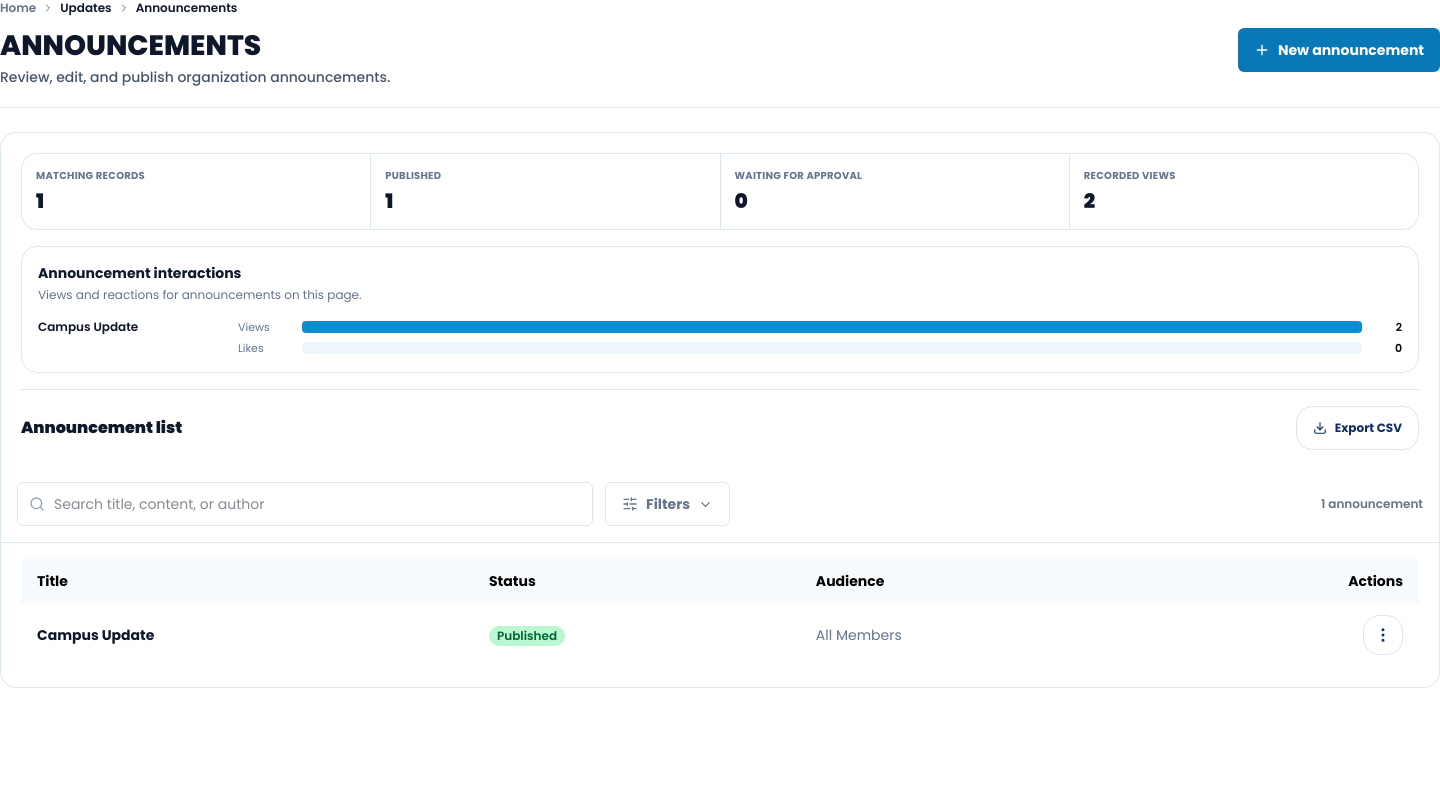
Scenario: ManageAnnouncementsPage › keeps a failed delete confirmation open and reports the error
This screenshot has width=1440, height=810.
Click the button named "Actions for Campus update".
click(1383, 635)  # box [1363,615,1403,655]
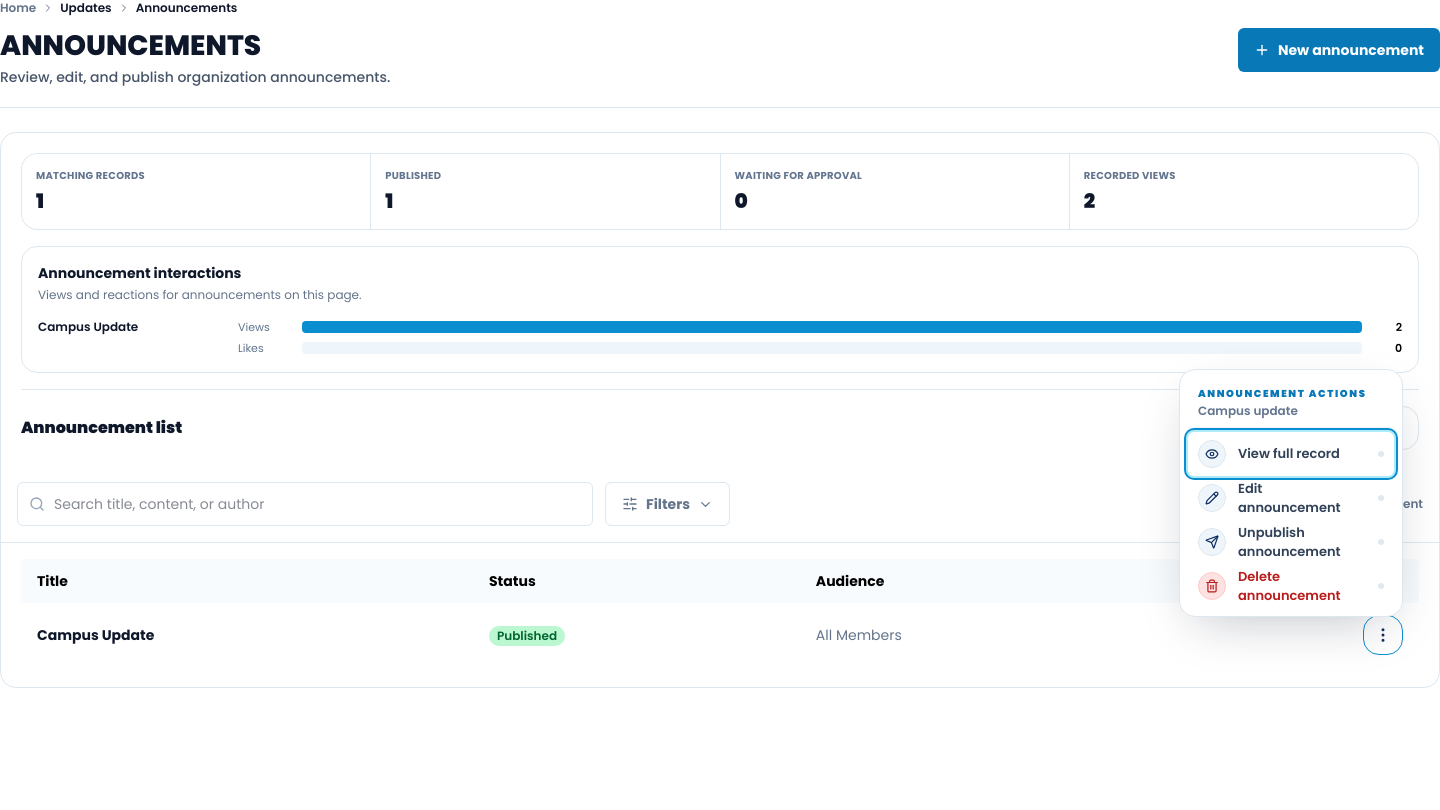
Click the menu item "Delete announcement".
click(1291, 586)  # box [1188,564,1394,608]
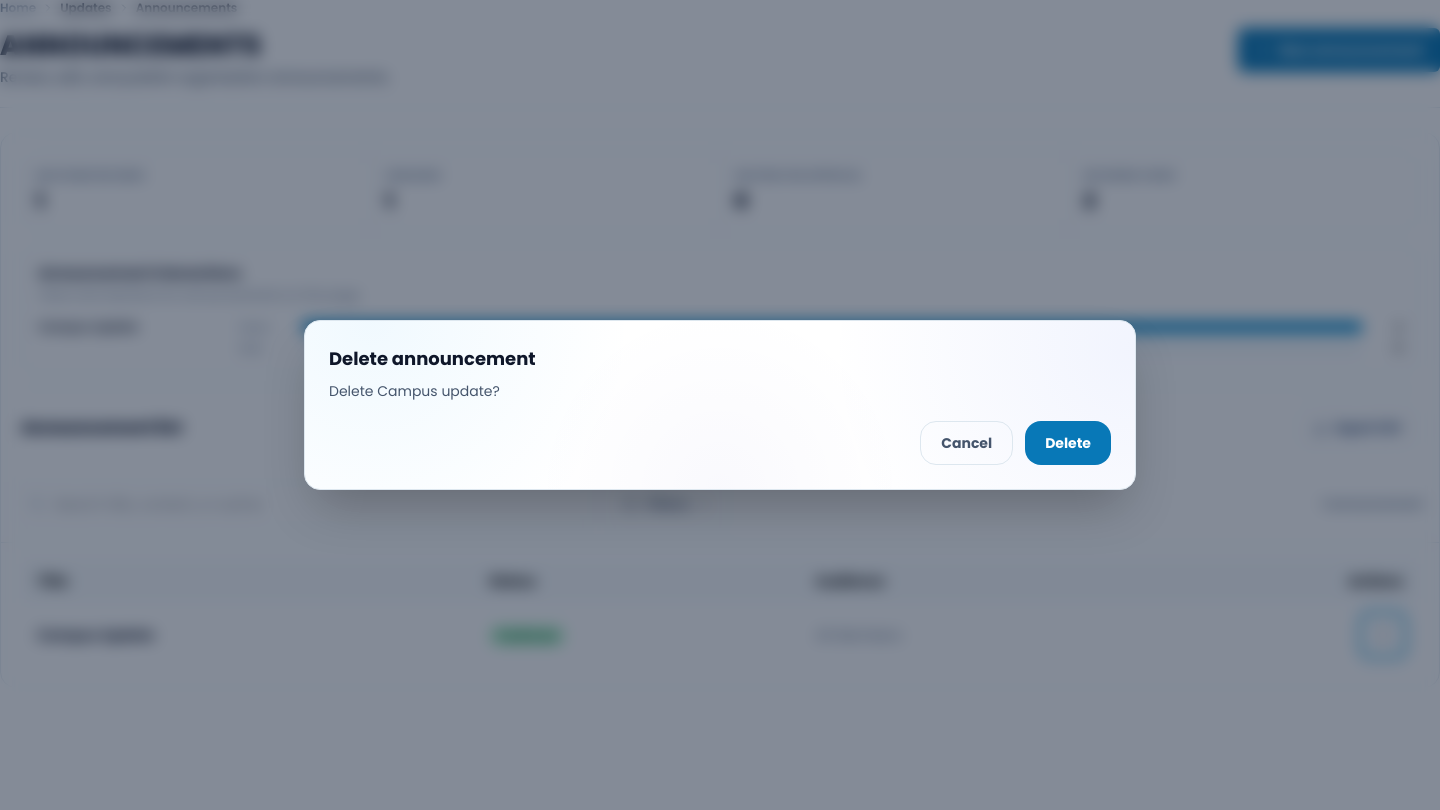
Click the button "Delete".
click(1068, 443)  # box [1025,421,1111,465]
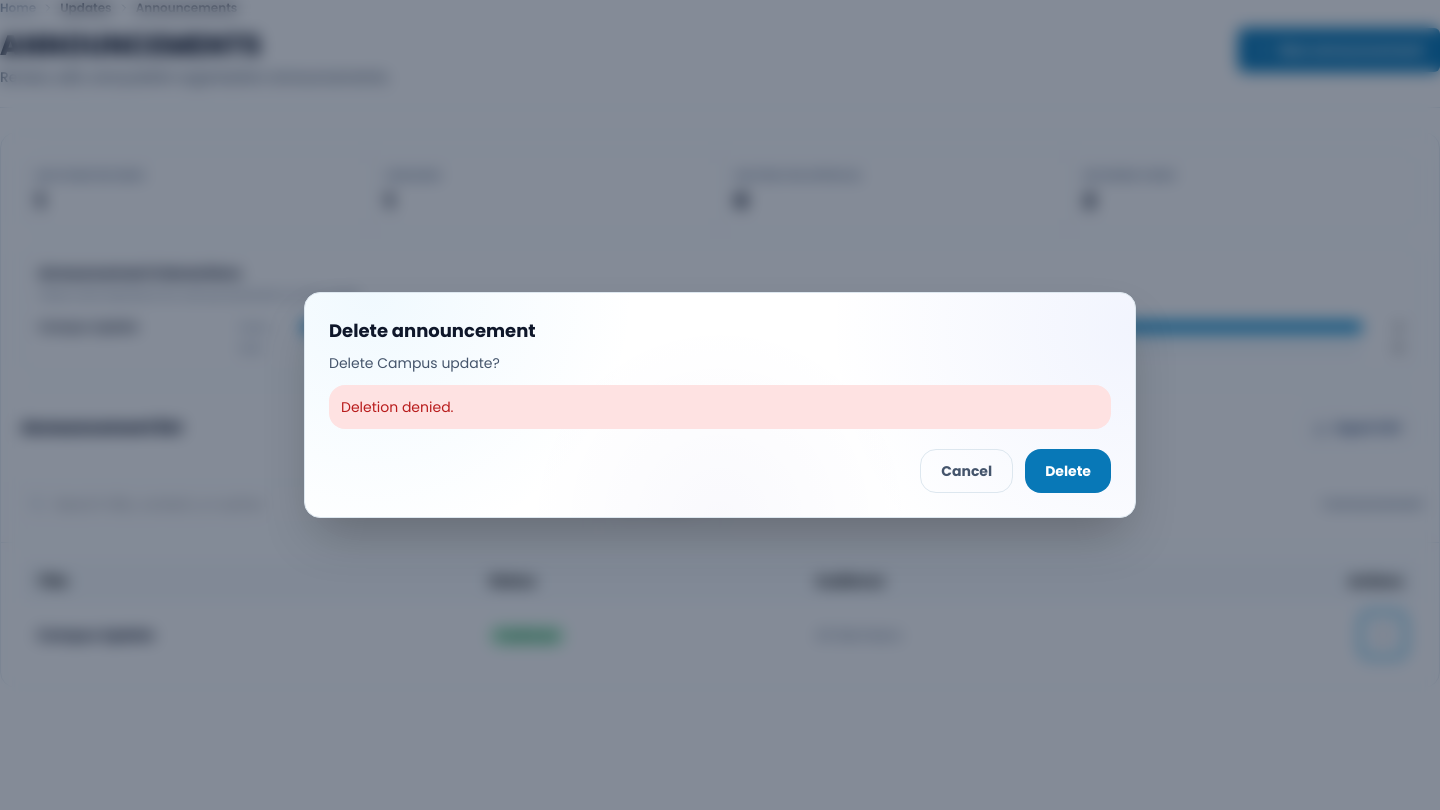
Now the dialog is shown
Now the message reads "Deletion denied.", box [341,397,454,417]
